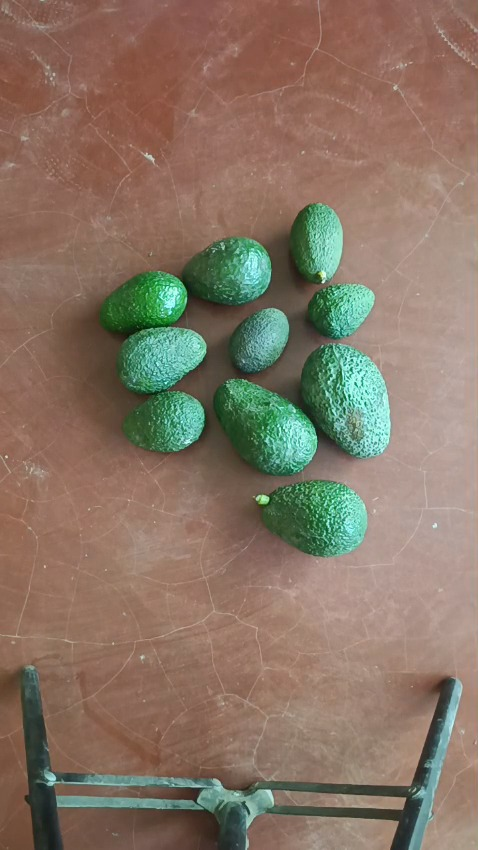Primera: (299, 342, 391, 457), (213, 379, 317, 474), (257, 479, 369, 556)
Segunda: (181, 237, 273, 306), (116, 325, 206, 393), (98, 272, 187, 335), (121, 390, 206, 453)
Tercera: (289, 203, 343, 283), (228, 307, 290, 374), (306, 282, 376, 339)
